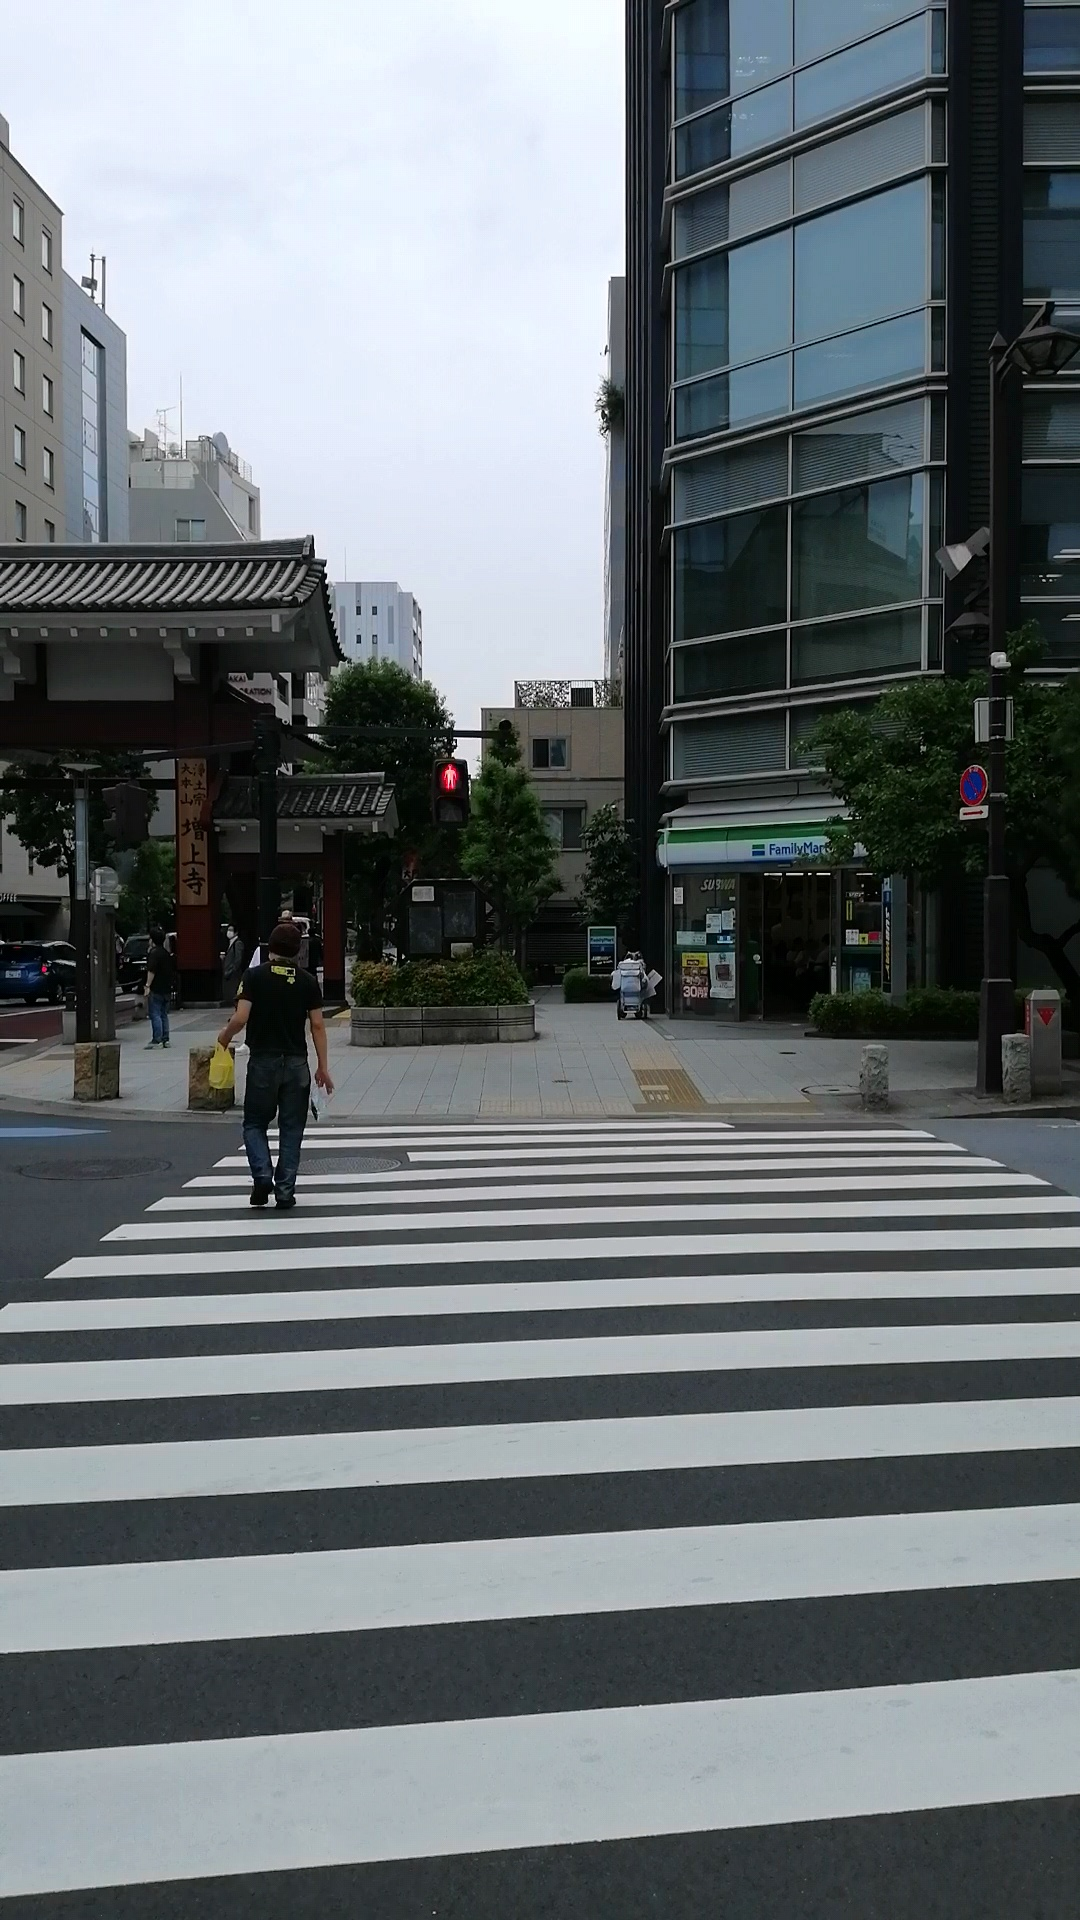red: (433, 760, 468, 828)
